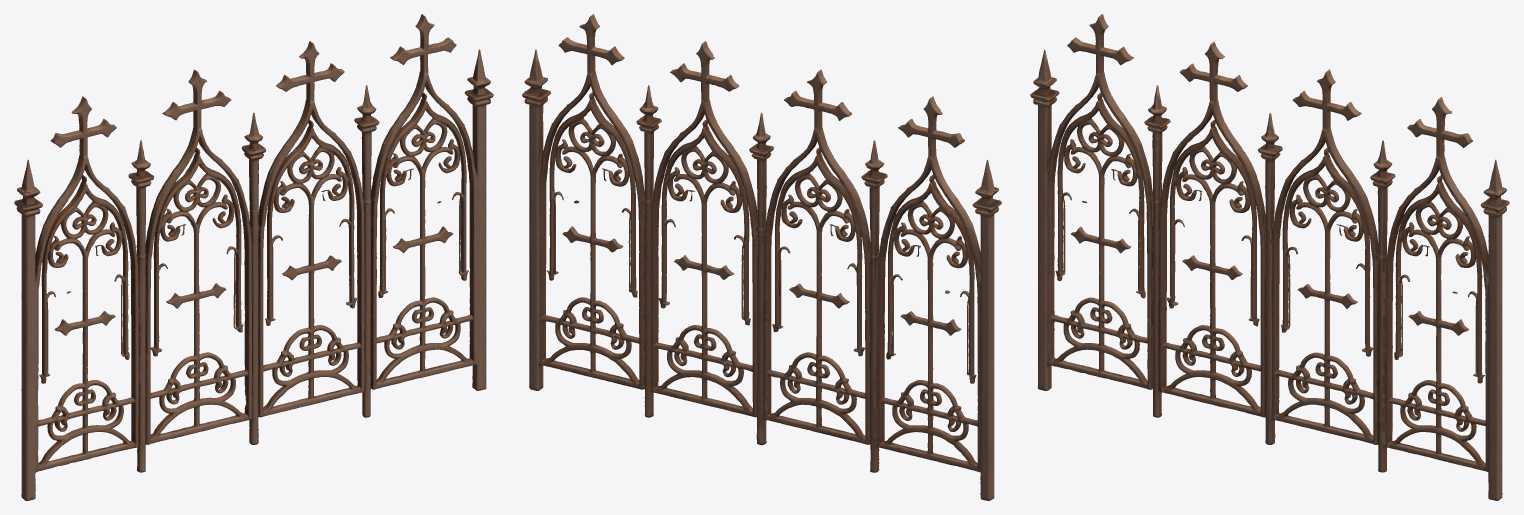
The model's file is Meshy_AI_Gothic_Iron_Fence_1016065031_texture.fbx.
The picture shows the model from 3 angles, left to right: view 1: azimuth 30°, elevation 25°; view 2: azimuth 150°, elevation 25°; view 3: azimuth 330°, elevation 25°; orthographic projection.
Visible parts, largest first — view 1: Mesh_0; view 2: Mesh_0; view 3: Mesh_0.
Boxes of the visible parts, bbox=[...] form: Mesh_0: bbox=[14, 14, 493, 500]; Mesh_0: bbox=[522, 14, 1001, 500]; Mesh_0: bbox=[1030, 14, 1509, 500].
Size of the model in its own units: 189 by 149 by 7.96.
Materials: 1 (1 with a texture image).
